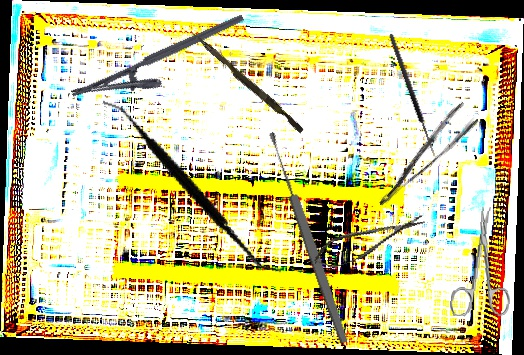Dressing Forceps: (364, 101, 481, 208)
Hook Surgical: (387, 31, 444, 159)
Iris Scissors: (449, 204, 518, 321)
Micro Scissor: (309, 208, 430, 274)
Needle Holder: (70, 13, 255, 121)
Pusher: (186, 30, 307, 134)
Spatula Surgical: (72, 100, 312, 273)
Surgical Spoon: (265, 130, 351, 345)
